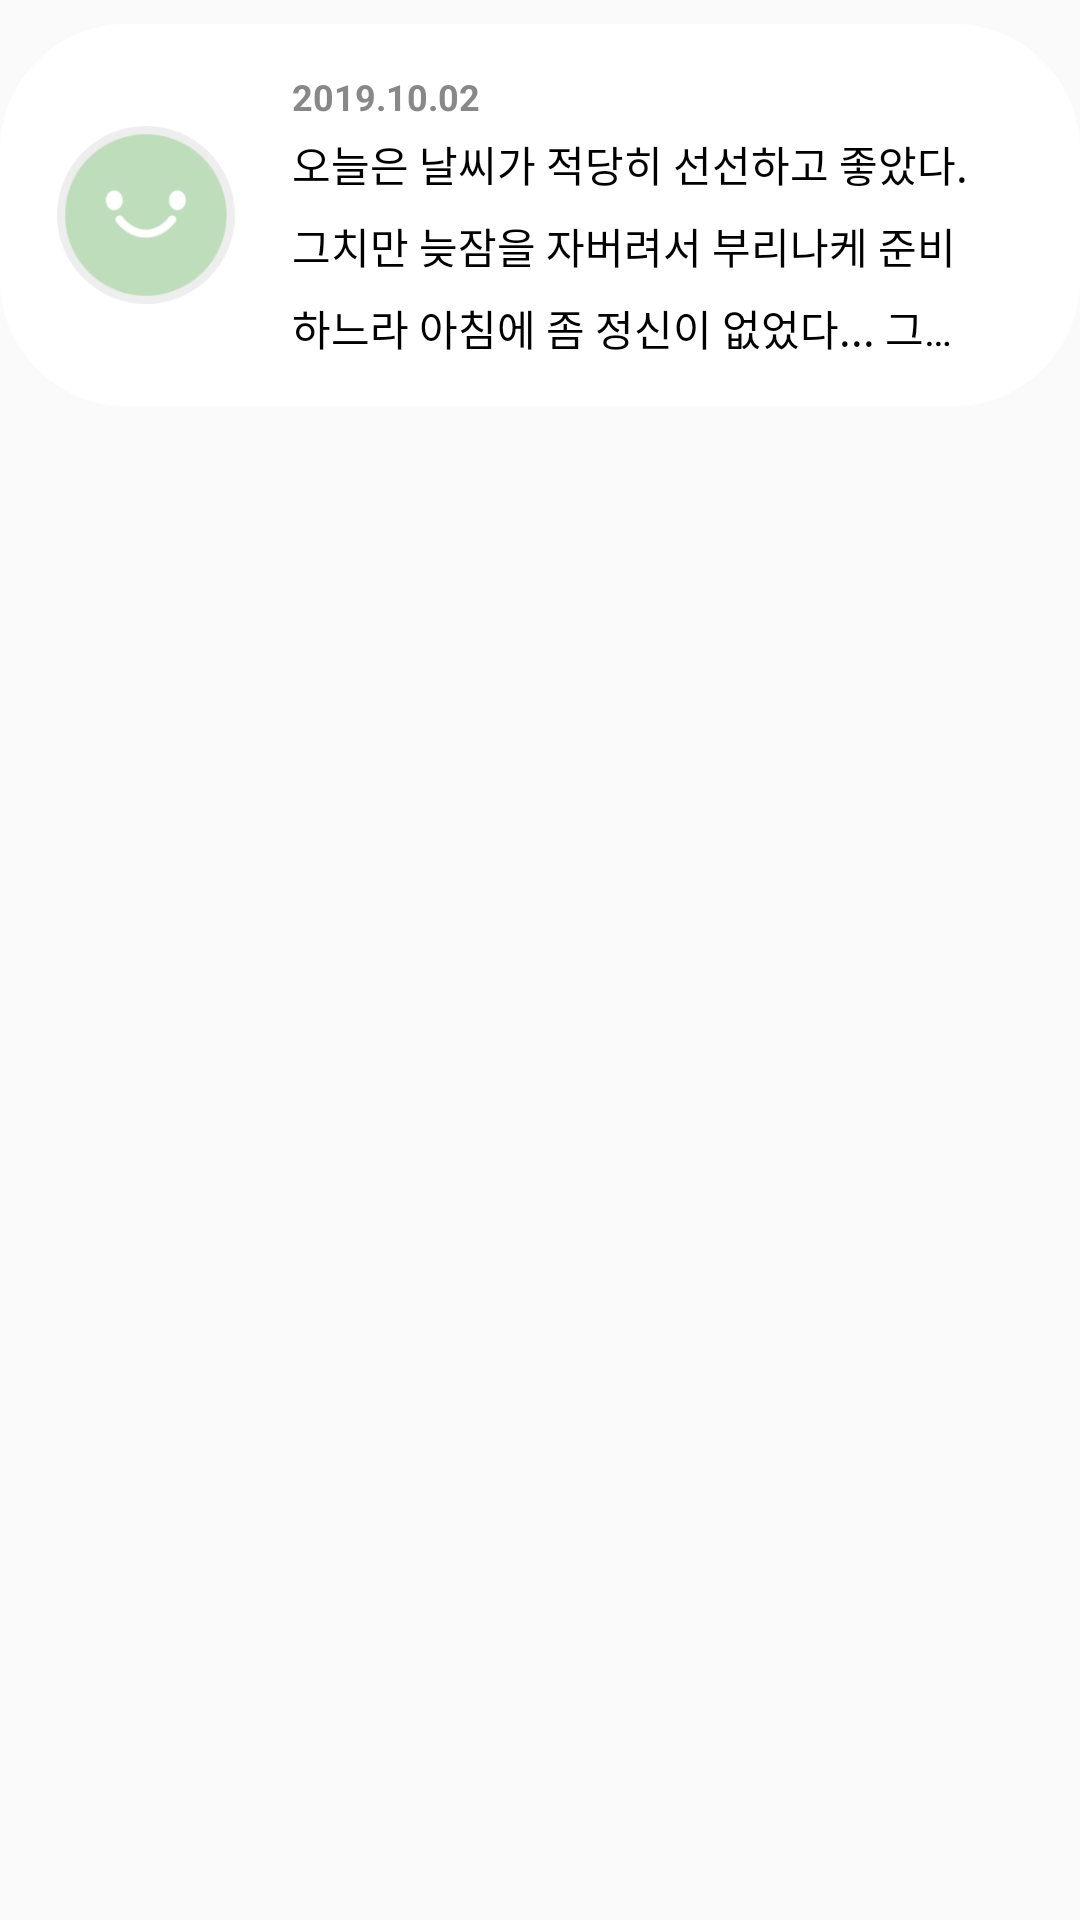

Icons on this 1080 x 1920 Android screen, each with its box as (x1, y1, x2, y2):
emo diary good: (65, 134, 227, 296)
